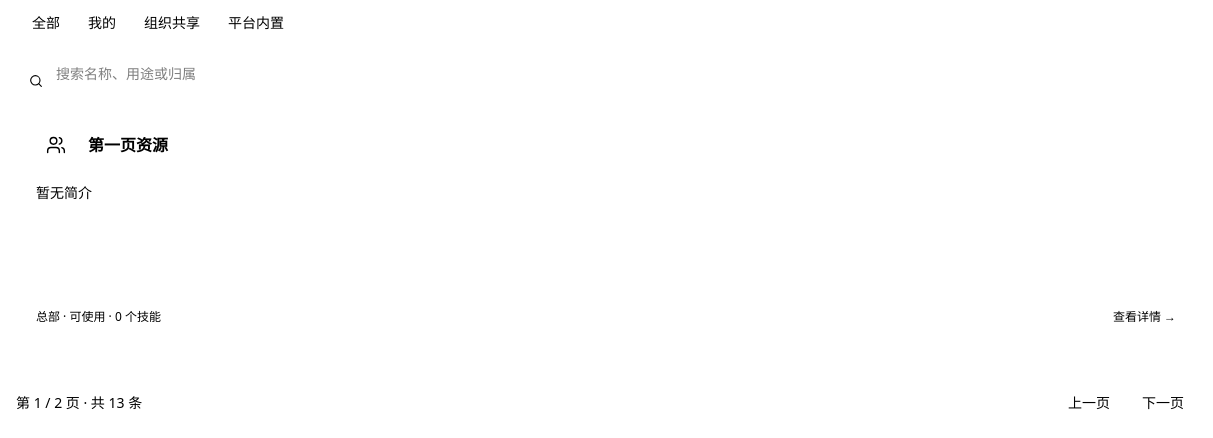
Scenario: agents uses server pagination and resets search to page one
Expected: the heading "第一页资源" is shown, [88,134,168,156]
Expected: the text "第 1 / 2 页 · 共 13 条" is shown, [16,393,142,413]
Click the button "下一页". click: (1163, 403)
box: [1130,385,1196,421]
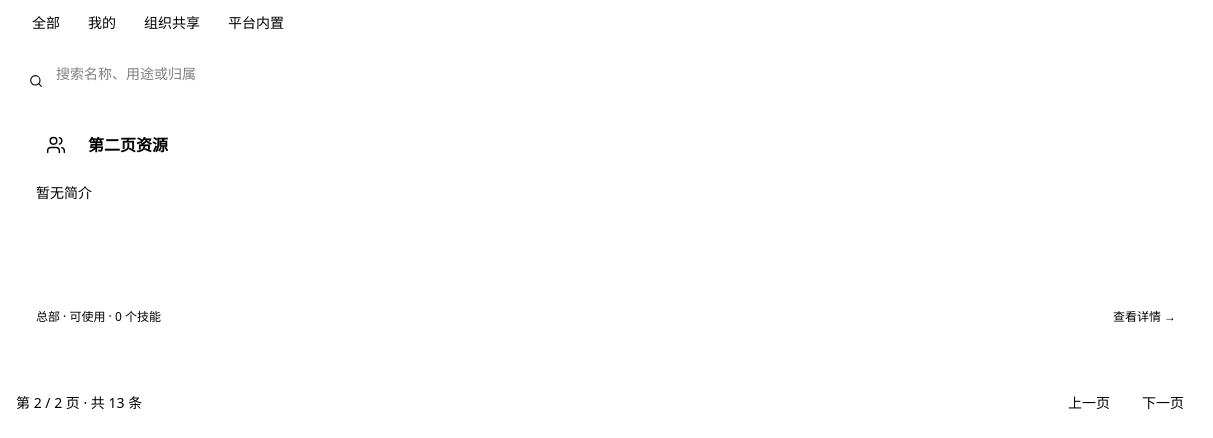
Result: the heading "第二页资源" is shown at [88,134,168,156]
Type "报告" into the field named "搜索智能体". click: (606, 74)
box: [16,64,1196,84]
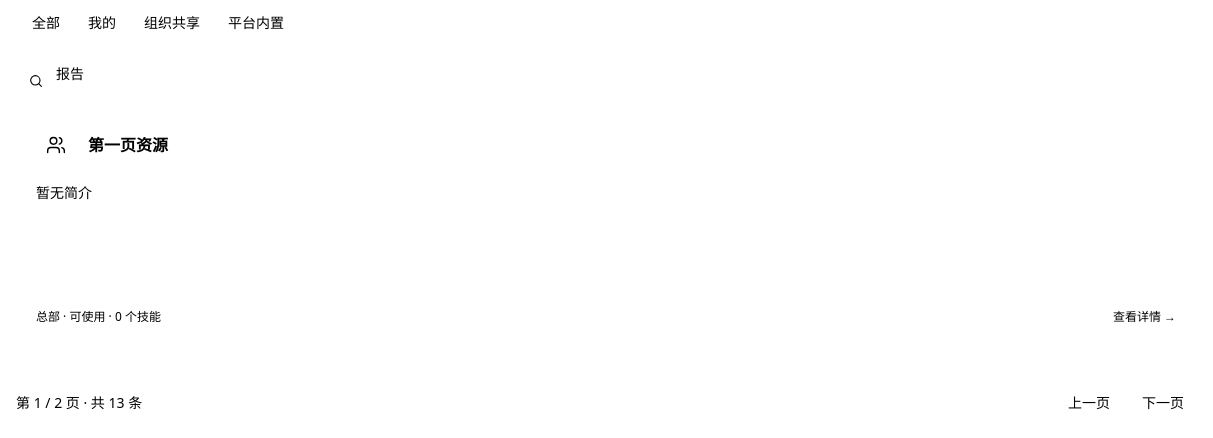
Result: the heading "第一页资源" is shown at [88,134,168,156]
Click the button "下一页". click: (1163, 403)
box: [1130,385,1196,421]
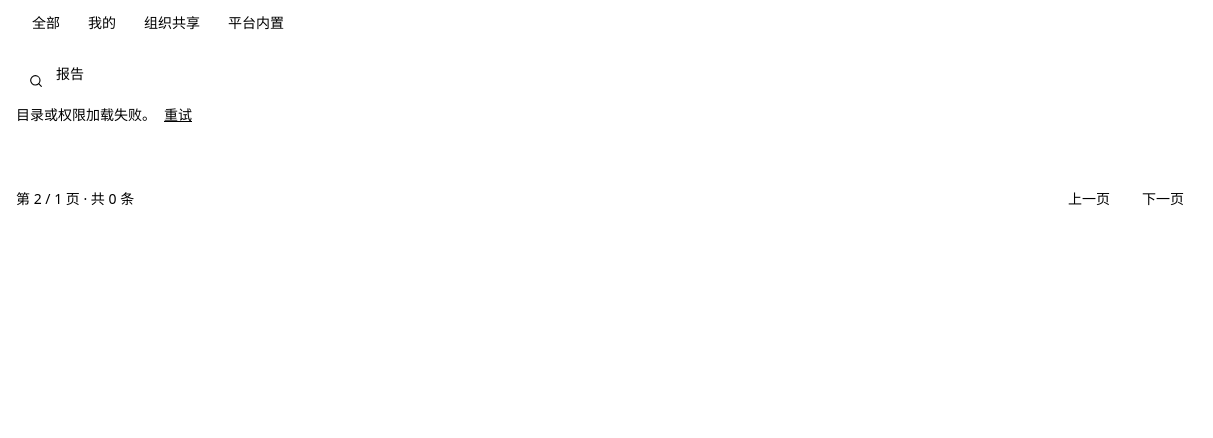
Result: the message "目录或权限加载失败。 重试" is shown at [16,105,192,125]
Click the button "重试". click: (178, 115)
box: [164,105,192,125]
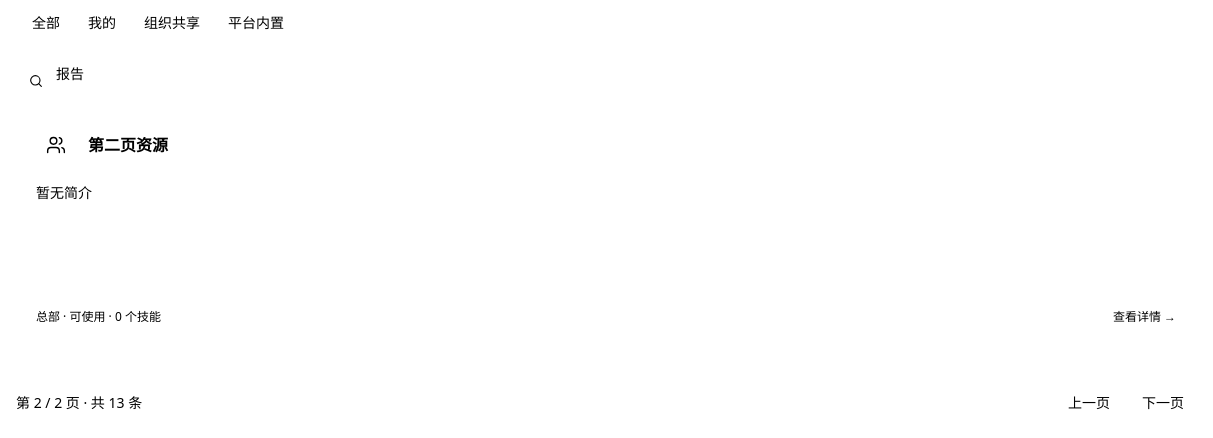
Result: the heading "第二页资源" is shown at [88,134,168,156]
